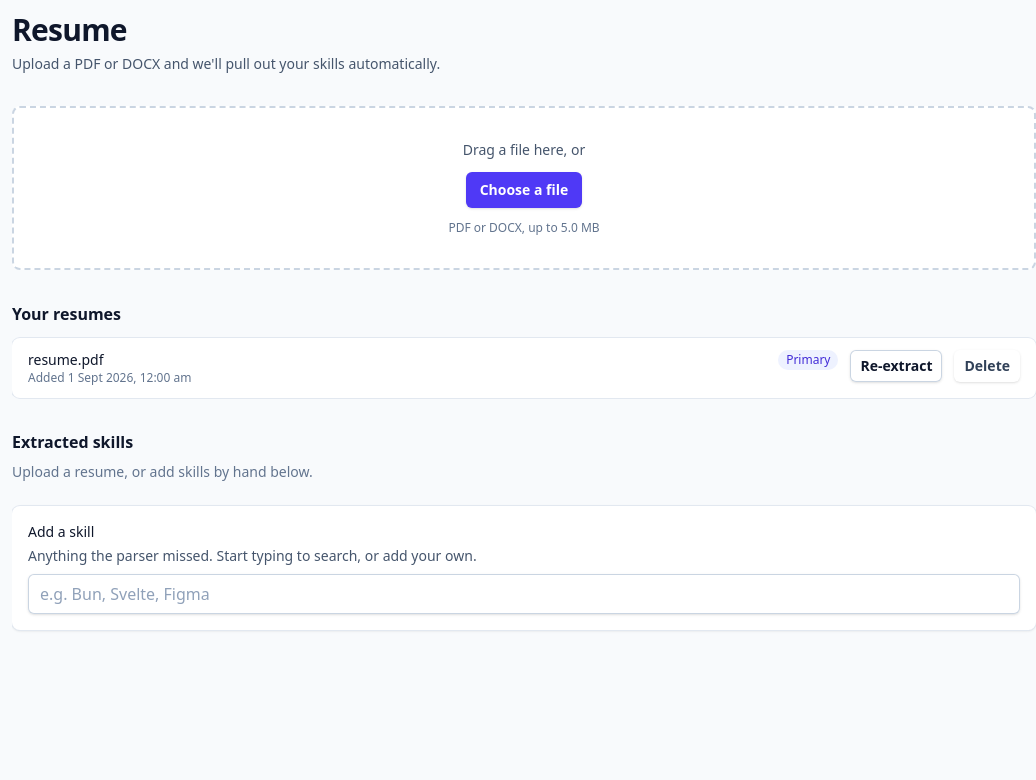
ResumePage › failures that used to be silent › reports a failed re-extract and keeps the row
This screenshot has width=1036, height=780.
Click the button "Re-extract" at (896, 366), box [850, 350, 942, 382]
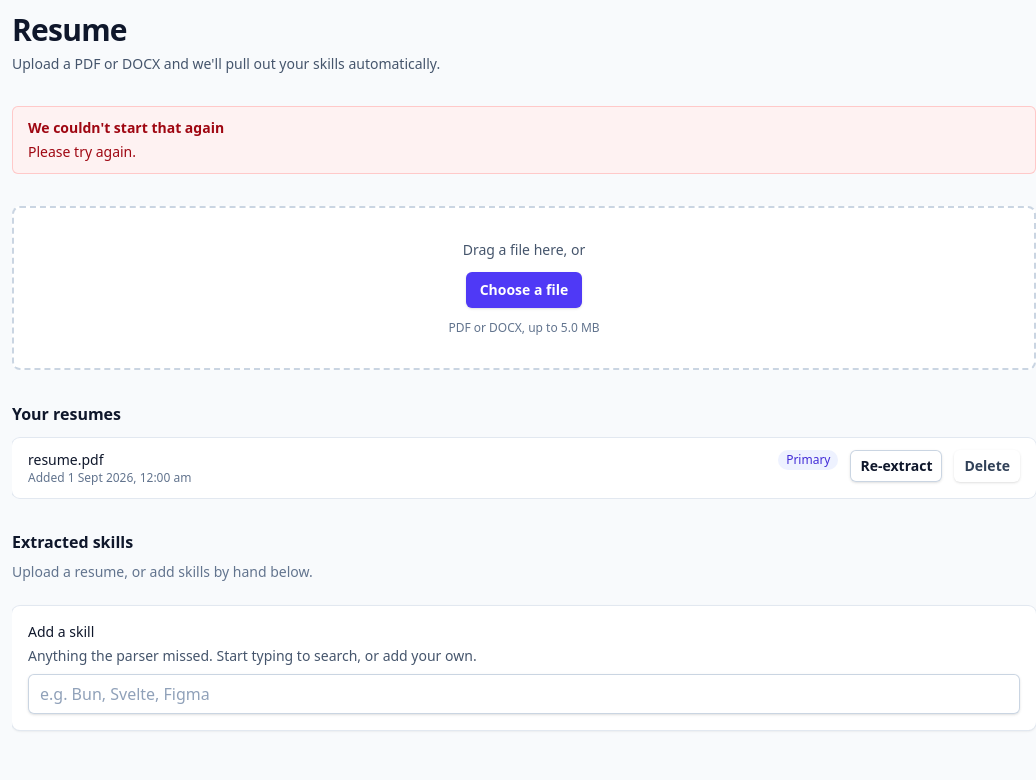
Expected: the link "resume.pdf" is shown, [28, 450, 104, 469]
Now the message shows "couldn't start that again", box [28, 118, 224, 137]
